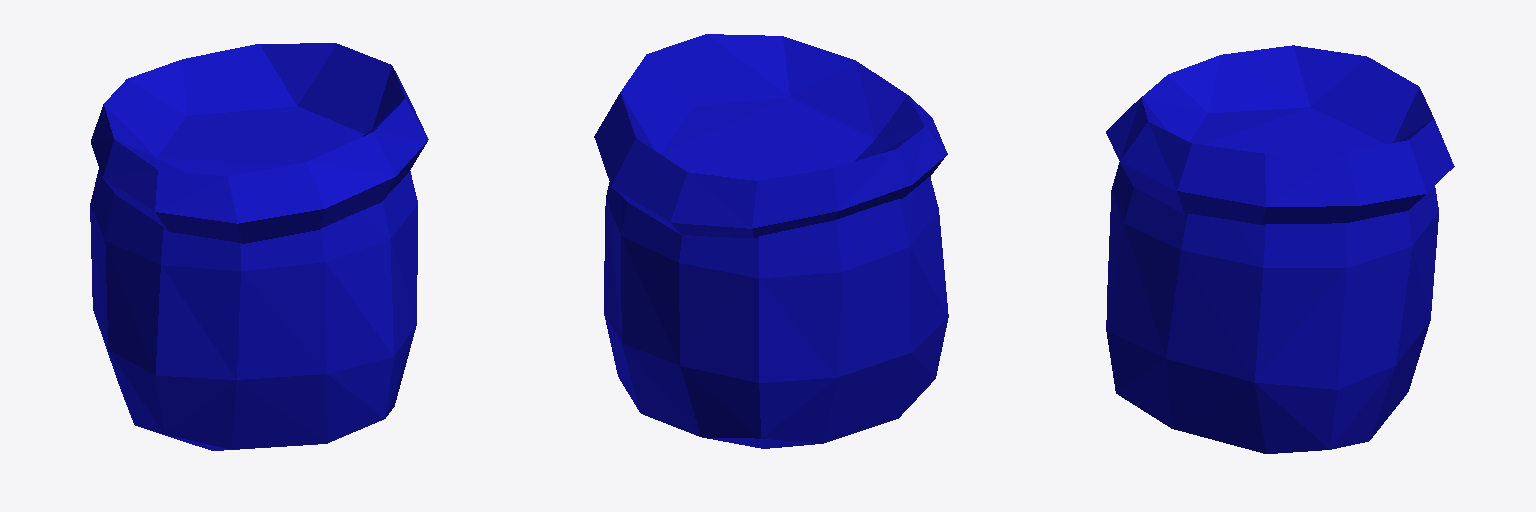
Rendered from bag_002.obj.
3 renders of one model, left to right at view 1: azimuth 30°, elevation 25°; view 2: azimuth 150°, elevation 25°; view 3: azimuth 270°, elevation 25°, orthographic.
Visible parts, largest first — view 1: bag_002; view 2: bag_002; view 3: bag_002.
Boxes of the visible parts, x1=… form: bag_002: x1=90, y1=43, x2=428, y2=450; bag_002: x1=594, y1=34, x2=948, y2=448; bag_002: x1=1106, y1=45, x2=1454, y2=453.
Size of the model in its own units: 0.5387 by 0.5712 by 0.5477.